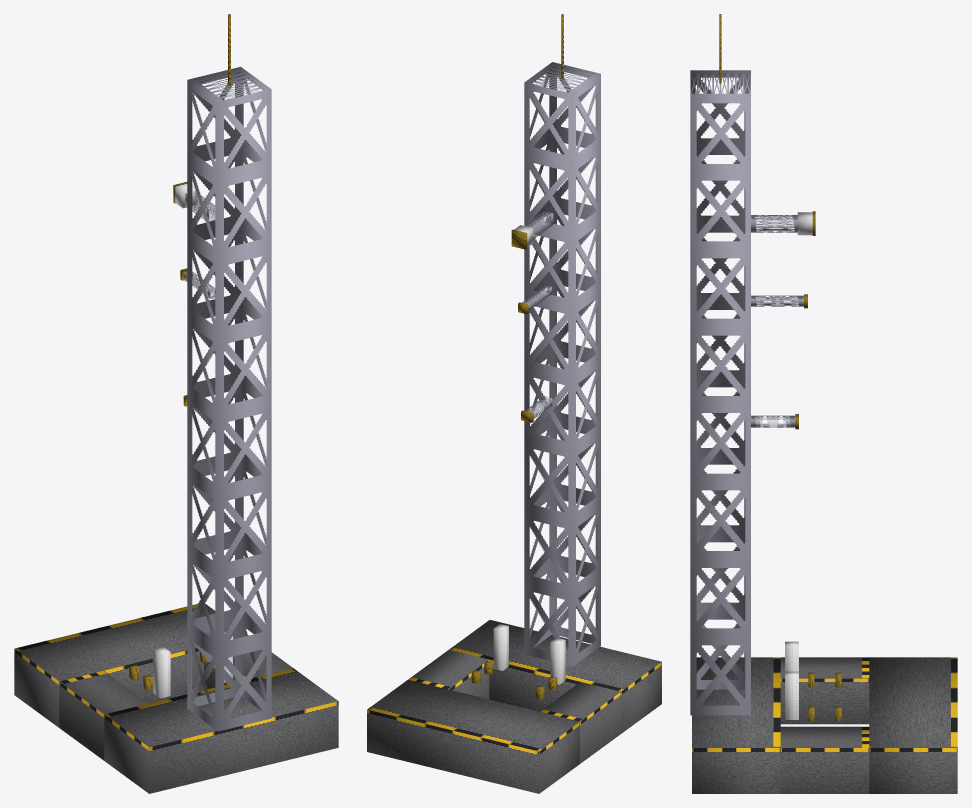
The model's file is mobile_dock.glb.
The picture shows the model from 3 angles, left to right: view 1: azimuth 30°, elevation 25°; view 2: azimuth 150°, elevation 25°; view 3: azimuth 270°, elevation 25°; orthographic projection. The views are drawn at different scales.
Visible parts, largest first — view 1: ML_Static_Structure, Dock_Crew_Access_Arm; view 2: ML_Static_Structure, Dock_Crew_Access_Arm; view 3: ML_Static_Structure, Dock_Crew_Access_Arm, Dock_ICPS_Umbilical_Arm, Dock_Core_Intertank_Arm.
Part boxes in pixels (x1,y1,x2,y2): ML_Static_Structure: (14, 14, 338, 793); Dock_Crew_Access_Arm: (173, 182, 215, 221); ML_Static_Structure: (367, 14, 661, 793); Dock_Crew_Access_Arm: (511, 211, 553, 249); ML_Static_Structure: (690, 14, 957, 793); Dock_Crew_Access_Arm: (751, 211, 815, 235); Dock_ICPS_Umbilical_Arm: (751, 294, 807, 308); Dock_Core_Intertank_Arm: (751, 414, 798, 429).
Size of the model in its own units: 34 by 128 by 42.3.
Materials: 1 (1 with a texture image).
